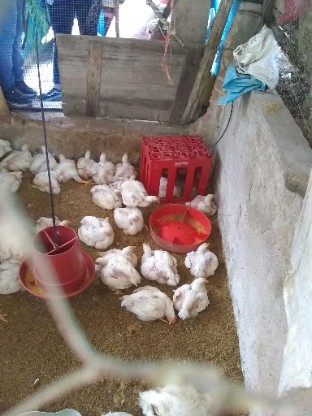Pollos: (136, 373, 215, 416), (93, 244, 144, 286), (122, 287, 177, 324), (141, 236, 182, 283), (174, 276, 214, 320), (185, 240, 221, 277), (119, 179, 158, 212), (0, 258, 32, 298), (78, 212, 114, 245), (185, 189, 224, 219), (155, 173, 192, 204), (28, 213, 75, 235), (86, 183, 123, 210), (115, 207, 146, 236), (4, 141, 31, 171), (116, 151, 142, 181), (31, 169, 63, 192), (74, 148, 99, 177), (94, 152, 116, 184), (54, 152, 78, 179), (32, 143, 55, 170), (0, 168, 23, 195), (99, 402, 134, 416), (0, 134, 14, 156)
